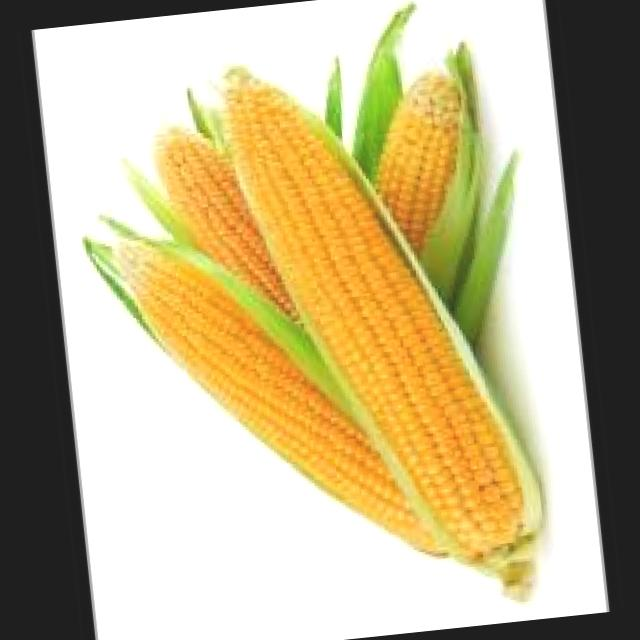corn: (87, 46, 544, 591)
